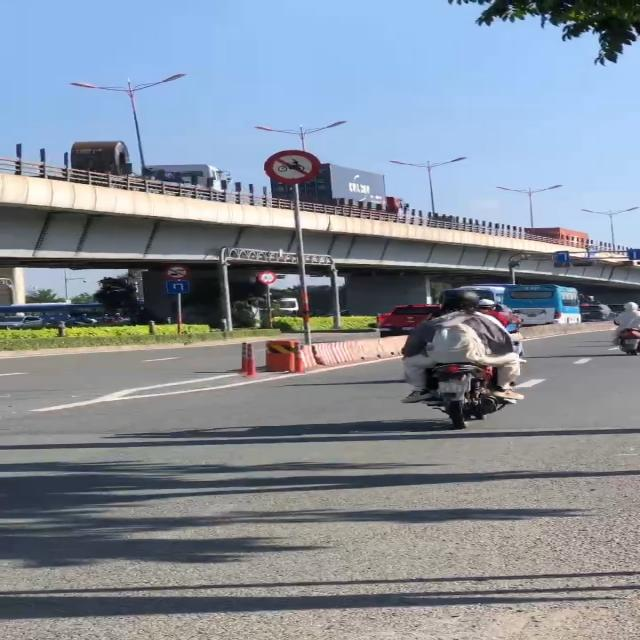Bien bao cam xe may: (257, 148, 325, 184)
